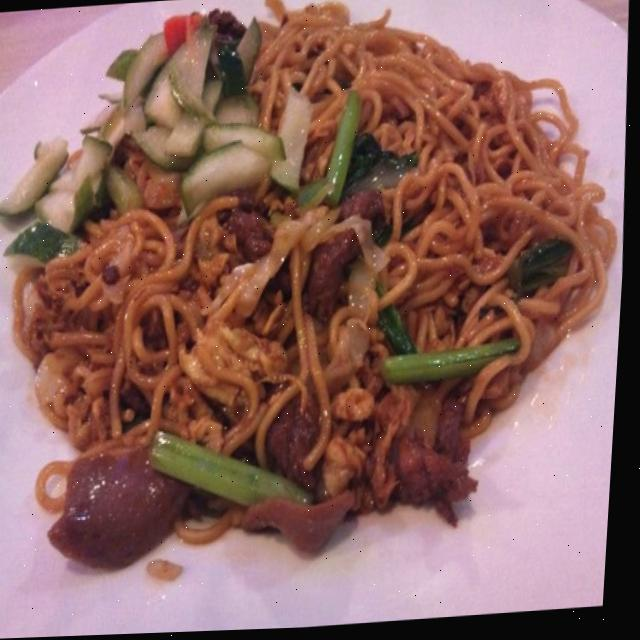面条主食: (0, 0, 640, 606)
